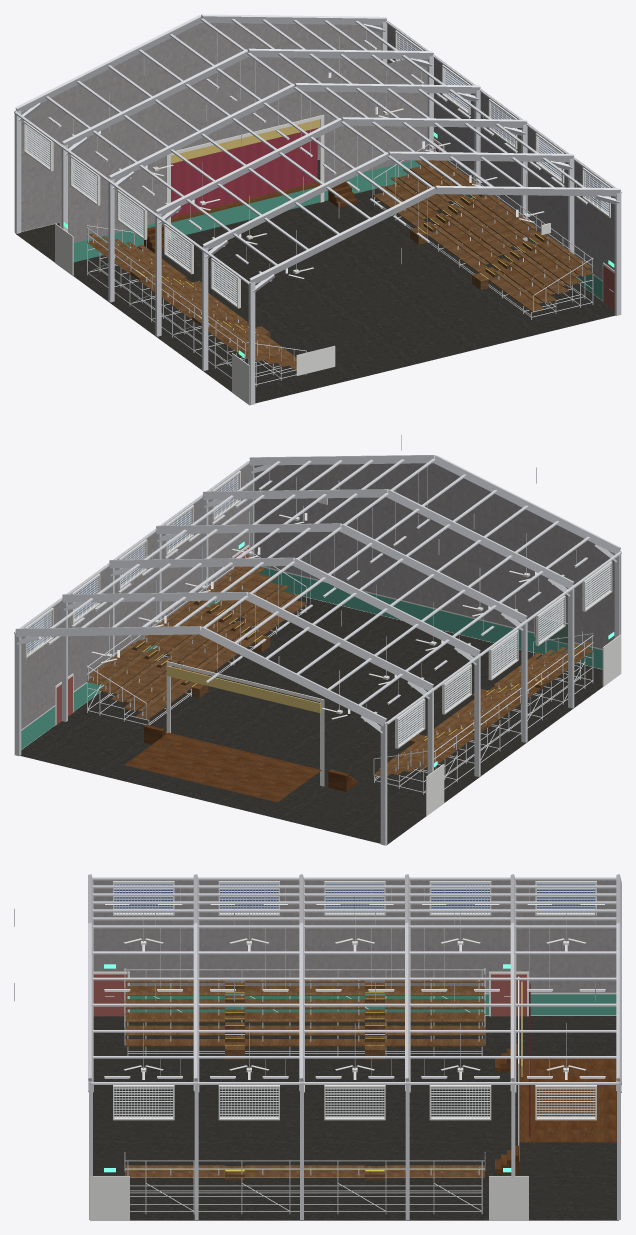
The model's file is takraw_hall.glb.
3 renders of one model, top to bottom at view 1: azimuth 30°, elevation 25°; view 2: azimuth 150°, elevation 25°; view 3: azimuth 270°, elevation 25°, orthographic. The views are drawn at different scales.
Parts seen in each view (by area): view 1: Frame.001, Plaster.001, Floor.001, Deck.002, Trim.001, Plank.002, Curtain.001, Louvre.001, Dado.001, Stage.001, Valance.001, Fan.001 (+1 smaller); view 2: Floor.001, Frame.001, Plaster.001, Deck.002, Stage.001, Trim.001, Plank.002, Dado.001, Louvre.001, Valance.001, Fan.001, Night.001; view 3: Floor.001, Frame.001, Plaster.001, Deck.002, Louvre.001, Trim.001, Stage.001, Plank.002, Night.001, Dado.001, Door.001, Fan.001 (+1 smaller).
Boxes of the visible parts, x1,y1,x2,y2 form: Frame.001: (14,14,621,405); Plaster.001: (15,20,614,280); Floor.001: (15,159,615,403); Deck.002: (86,160,593,369); Trim.001: (23,30,614,405); Plank.002: (89,150,591,361); Curtain.001: (171,128,317,217); Louvre.001: (24,34,608,304); Dado.001: (73,160,602,300); Stage.001: (144,180,357,252); Valance.001: (171,119,319,163); Fan.001: (98,72,544,278); Floor.001: (20,586,602,845); Frame.001: (14,434,621,845); Plaster.001: (21,461,620,729); Deck.002: (86,566,593,776); Stage.001: (124,724,357,802); Trim.001: (21,471,621,815); Plank.002: (89,566,591,769); Dado.001: (21,566,602,749); Louvre.001: (27,474,611,745); Valance.001: (167,666,320,713); Fan.001: (91,513,537,719); Night.001: (27,476,237,652); Floor.001: (93,1016,618,1220); Frame.001: (14,874,621,1219); Plaster.001: (93,880,616,992); Deck.002: (125,982,484,1180); Louvre.001: (114,883,595,1117); Trim.001: (90,881,616,1220); Stage.001: (495,1044,616,1173); Plank.002: (125,980,484,1168); Night.001: (114,883,595,912); Dado.001: (130,994,616,1015); Door.001: (93,974,526,1016); Fan.001: (123,938,586,1079).
Bounding box in the file's own units: 24.38 × 10.81 × 30.39.
20 materials, 6 textured.
